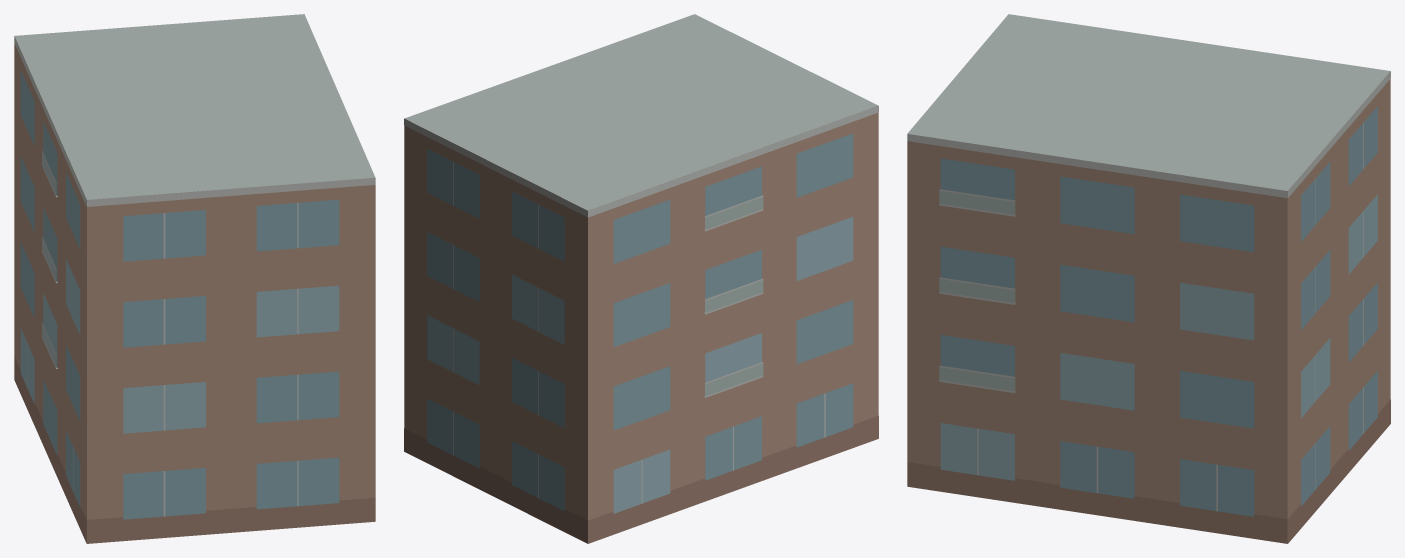
File: survey-upis-32942621.glb
3 views of the same model, side by side, from view 1: azimuth 30°, elevation 25°; view 2: azimuth 150°, elevation 25°; view 3: azimuth 270°, elevation 25° (orthographic). The views are drawn at different scales.
Visible parts, largest first — view 1: survey-upis-32942621.tmp; view 2: survey-upis-32942621.tmp; view 3: survey-upis-32942621.tmp.
Boxes of the visible parts, box(x1,y1,x2,y2) form: survey-upis-32942621.tmp: box(14, 14, 375, 543); survey-upis-32942621.tmp: box(404, 14, 878, 543); survey-upis-32942621.tmp: box(907, 14, 1390, 543).
Bounding box in the file's own units: 12.82 × 11.9 × 14.79.
